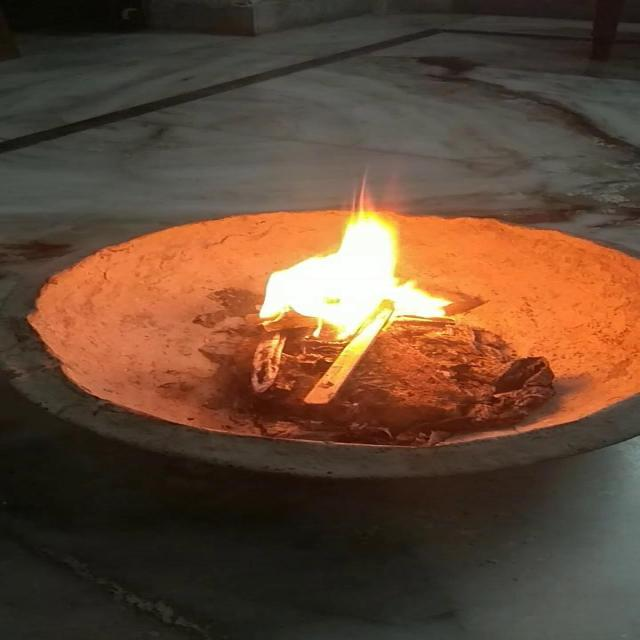fire: (242, 172, 456, 346)
